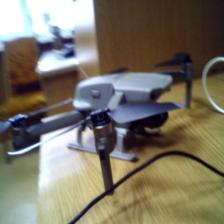drone: (0, 50, 215, 191)
